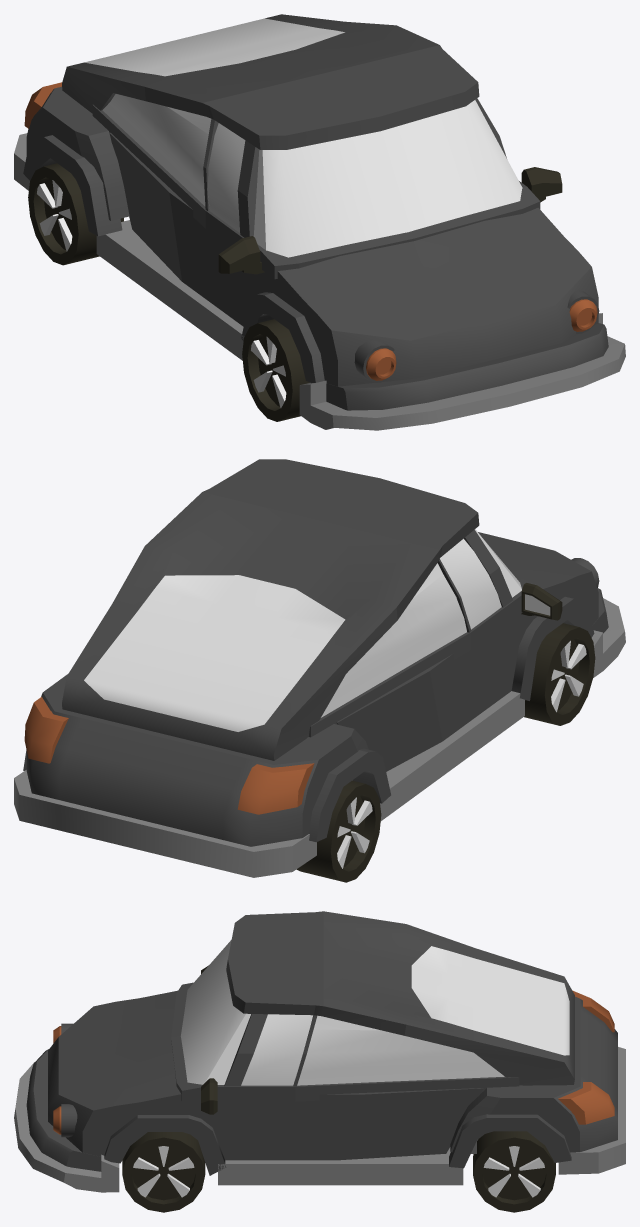
Rendered from car model 2.fbx.
The picture shows the model from 3 angles, top to bottom: view 1: azimuth 30°, elevation 25°; view 2: azimuth 150°, elevation 25°; view 3: azimuth 270°, elevation 25°; orthographic projection. The views are drawn at different scales.
Parts seen in each view (by area): view 1: car mod 2 body, wheel back, wheel front, headlight, rearview mirror, rim.001, rim front.001; view 2: car mod 2 body, wheel front, wheel back, rearview mirror, rim front.001, rim.001; view 3: car mod 2 body, wheel front, wheel back, rim front.001, rim.001, headlight, rearview mirror.
Boxes of the visible parts, left/top/right/bottom form: car mod 2 body: left=14, top=14, right=625, bottom=430; wheel back: left=28, top=163, right=123, bottom=265; wheel front: left=242, top=319, right=309, bottom=421; headlight: left=354, top=290, right=599, bottom=382; rearview mirror: left=218, top=167, right=562, bottom=274; rim.001: left=37, top=180, right=72, bottom=251; rim front.001: left=251, top=336, right=286, bottom=407; car mod 2 body: left=14, top=459, right=625, bottom=877; wheel front: left=524, top=623, right=595, bottom=725; wheel back: left=296, top=780, right=381, bottom=882; rearview mirror: left=521, top=583, right=562, bottom=620; rim front.001: left=551, top=640, right=586, bottom=712; rim.001: left=337, top=797, right=372, bottom=868; car mod 2 body: left=14, top=911, right=625, bottom=1192; wheel front: left=122, top=1132, right=205, bottom=1212; wheel back: left=473, top=1131, right=555, bottom=1212; rim front.001: left=133, top=1146, right=194, bottom=1197; rim.001: left=483, top=1146, right=544, bottom=1197; headlight: left=53, top=1023, right=77, bottom=1137; rearview mirror: left=201, top=965, right=217, bottom=1114.
Bounding box in the file's own units: 1517 × 1009 × 2893.
